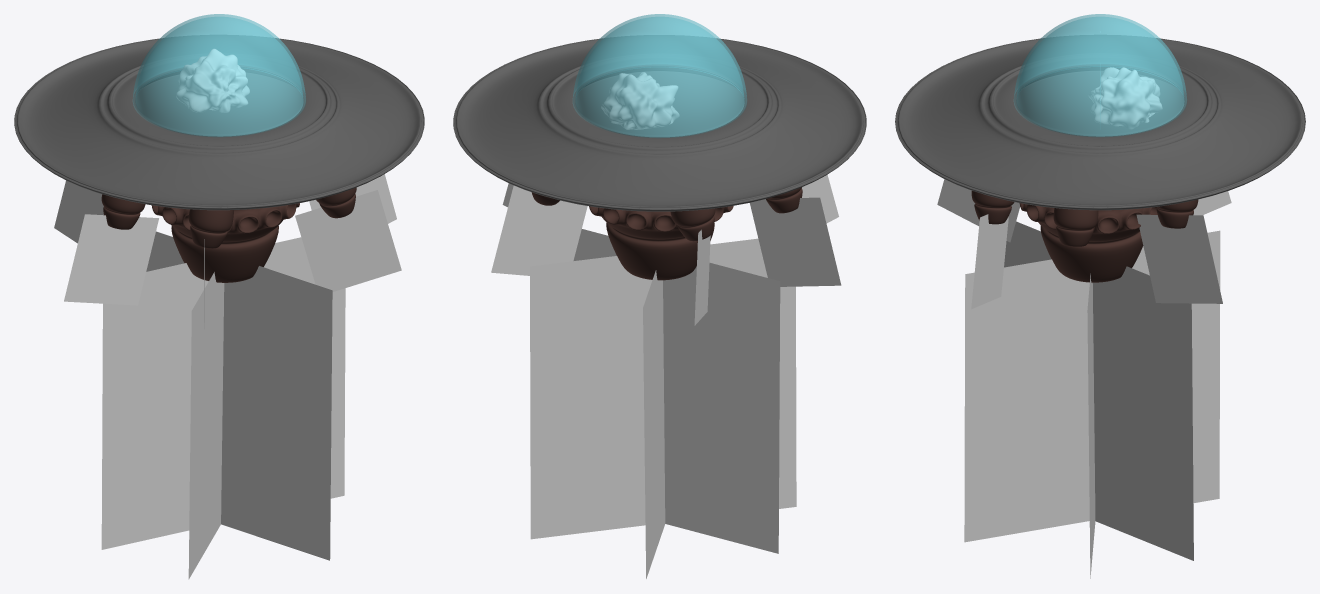
The model's file is AlienShip1.fbx.
3 views of the same model, side by side, from view 1: azimuth 30°, elevation 25°; view 2: azimuth 150°, elevation 25°; view 3: azimuth 270°, elevation 25° (orthographic).
Parts seen in each view (by area): view 1: Cylinder, cartoon_fire.008, cartoon_fire.006, Sphere, cartoon_fire.007, cartoon_fire.001, cartoon_fire.003, Circle.003, rocky body, Circle.001, cartoon_fire.004, cartoon_fire; view 2: Cylinder, cartoon_fire.007, cartoon_fire.006, Sphere, cartoon_fire.003, cartoon_fire.005, cartoon_fire.008, Circle.003, rocky body, Circle.001, cartoon_fire.004, cartoon_fire.002; view 3: Cylinder, cartoon_fire.008, cartoon_fire.007, Sphere, cartoon_fire.005, Circle.003, rocky body, Circle.001, cartoon_fire.001, cartoon_fire.006, cartoon_fire.002, cartoon_fire.004.
Boxes of the visible parts, x1,y1,x2,y2 form: Cylinder: (14,38,424,210); cartoon_fire.008: (146,231,332,560); cartoon_fire.006: (101,237,345,549); Sphere: (133,14,305,136); cartoon_fire.007: (188,272,224,579); cartoon_fire.001: (295,190,401,291); cartoon_fire.003: (64,214,158,305); Circle.003: (151,203,299,282); rocky body: (176,49,249,112); Circle.001: (101,187,356,248); cartoon_fire.004: (54,180,103,243); cartoon_fire: (309,174,396,223); Cylinder: (453,38,866,211); cartoon_fire.007: (530,238,796,539); cartoon_fire.006: (573,229,780,553); Sphere: (572,14,747,137); cartoon_fire.003: (750,197,841,286); cartoon_fire.005: (491,185,587,275); cartoon_fire.008: (643,270,665,578); Circle.003: (589,206,733,280); rocky body: (601,72,679,129); Circle.001: (531,187,802,241); cartoon_fire.004: (694,229,710,325); cartoon_fire.002: (802,174,838,223); Cylinder: (895,38,1305,210); cartoon_fire.008: (964,230,1220,542); cartoon_fire.007: (1004,221,1193,560); Sphere: (1013,14,1187,136); cartoon_fire.005: (1136,214,1222,303); Circle.003: (1019,203,1157,282); rocky body: (1088,67,1162,128); Circle.001: (971,191,1198,246); cartoon_fire.001: (971,214,1008,309); cartoon_fire.006: (1087,273,1095,578); cartoon_fire.002: (937,179,1020,242); cartoon_fire.004: (1193,191,1231,215).
Size of the model in its own units: 130 by 174 by 130.
